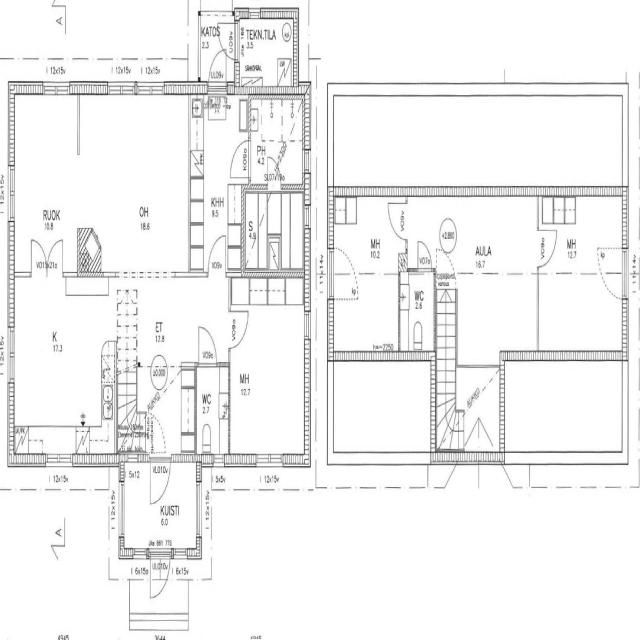door: (148, 416, 171, 506), (210, 20, 234, 88), (597, 250, 627, 302), (27, 235, 65, 274), (194, 319, 219, 371), (227, 135, 251, 184), (332, 242, 358, 282), (206, 230, 228, 277), (228, 305, 251, 349), (536, 224, 558, 269), (150, 552, 169, 598), (387, 200, 407, 240), (208, 46, 227, 88), (217, 19, 236, 58), (415, 235, 434, 273)
window: (330, 242, 357, 287), (193, 477, 204, 540), (7, 319, 17, 388), (41, 76, 72, 98), (7, 160, 17, 226), (107, 78, 137, 98), (326, 244, 336, 303), (254, 462, 284, 481), (136, 78, 164, 98), (255, 449, 285, 467), (45, 450, 74, 468), (301, 300, 313, 342), (118, 480, 126, 540), (302, 200, 312, 230), (302, 145, 312, 174), (172, 546, 190, 561), (132, 545, 149, 559)
zone: (81, 90, 193, 275), (10, 275, 115, 459), (228, 276, 310, 462), (12, 90, 80, 265), (190, 94, 246, 260), (537, 268, 625, 361), (455, 274, 538, 362), (541, 196, 628, 275), (450, 199, 538, 274), (331, 273, 402, 361), (332, 195, 405, 276), (248, 95, 304, 186), (234, 17, 296, 92), (457, 362, 501, 454), (267, 189, 307, 277), (196, 362, 230, 459), (399, 269, 436, 357), (243, 189, 269, 273), (597, 244, 627, 301), (278, 97, 304, 142)
